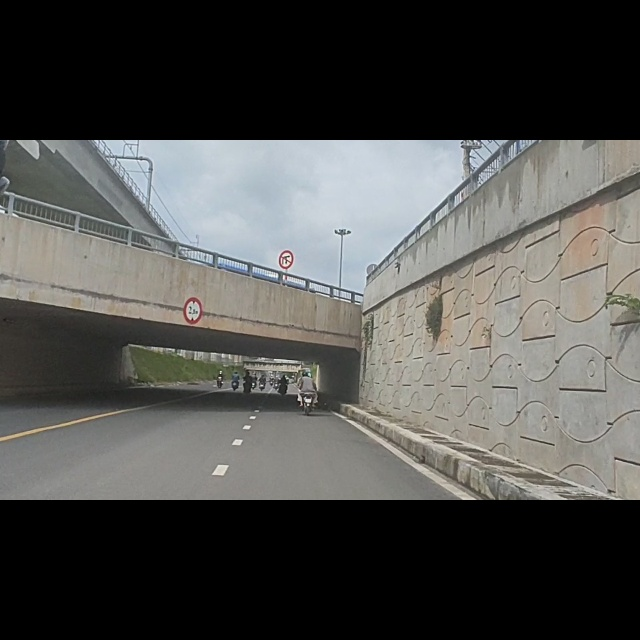bien_cam: (183, 277, 203, 327), (279, 194, 294, 230)
